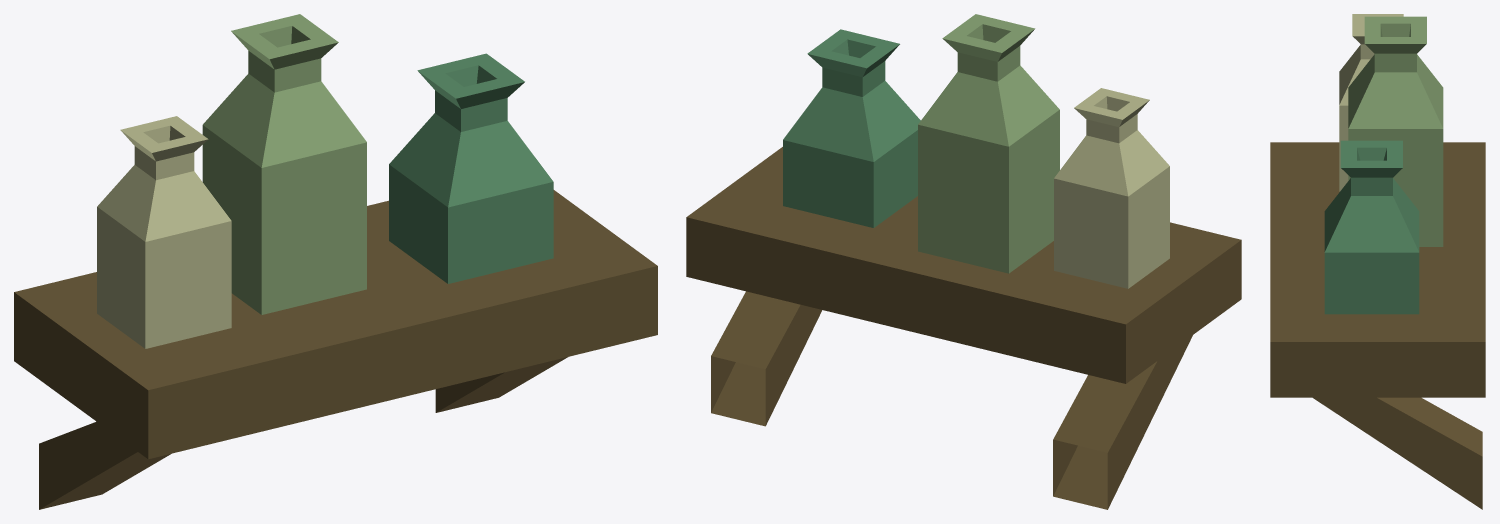
Rendered from Wall Shelf 03.FBX.
The picture shows the model from 3 angles, left to right: view 1: azimuth 30°, elevation 25°; view 2: azimuth 150°, elevation 25°; view 3: azimuth 270°, elevation 25°; orthographic projection. The views are drawn at different scales.
Visible parts, largest first — view 1: Wall Shelf 03; view 2: Wall Shelf 03; view 3: Wall Shelf 03.
Boxes of the visible parts, box(x1,y1,x2,y2) form: Wall Shelf 03: box(14, 14, 657, 509); Wall Shelf 03: box(686, 14, 1241, 509); Wall Shelf 03: box(1270, 14, 1485, 509).
Size of the model in its own units: 128 by 112 by 58.33.
